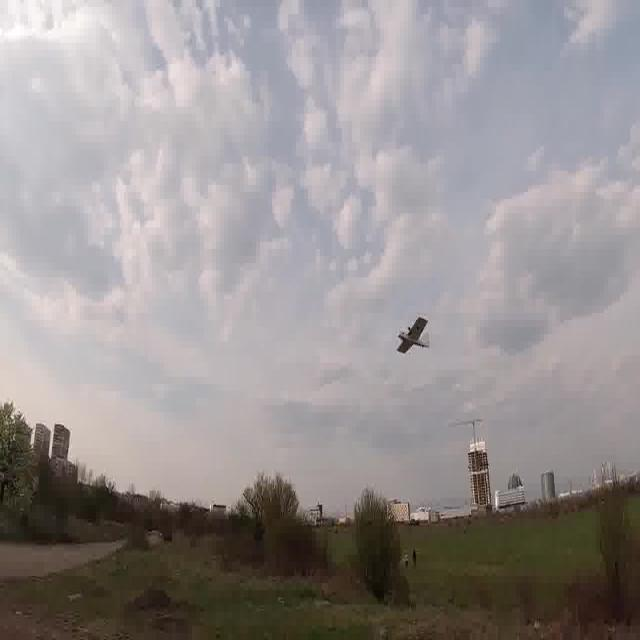iha: (390, 335, 435, 340)
